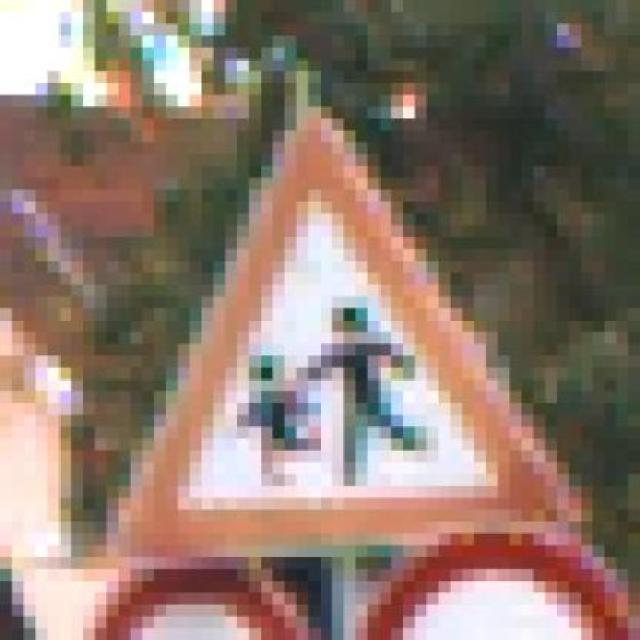Beware of children: (126, 90, 588, 564)
